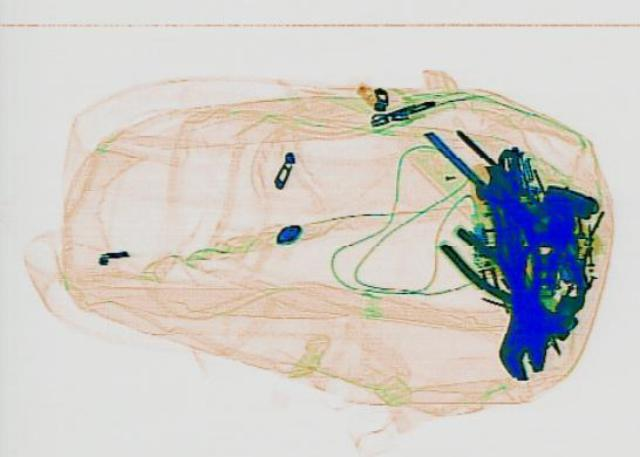Pliers: (427, 223, 583, 344)
Wrench: (477, 147, 555, 378)
